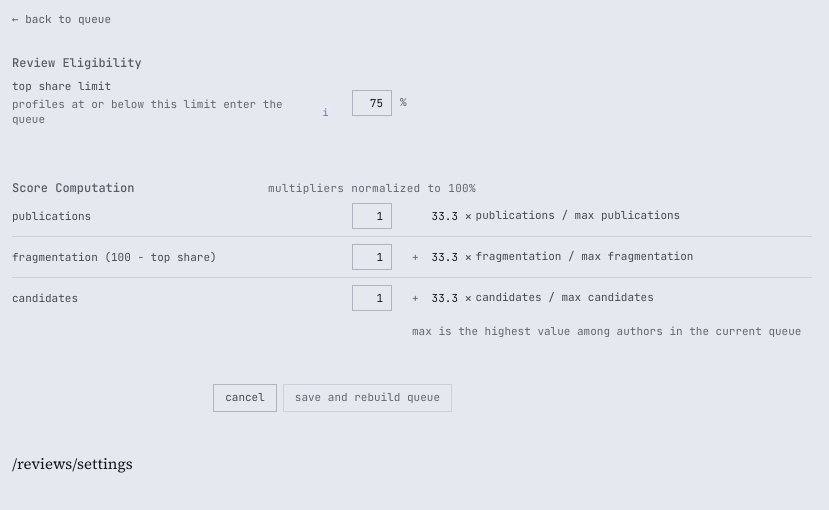
Scenario: preserves score formulas and blanks normalized values for incomplete weights
Expected: the number field labelled "top share limit" is shown, [352,90,392,116]
Expected: the text "Score Computation" is shown, [12,180,134,196]
Clear the number field labelled "publications 33.3 × publications / max publications" at (372, 216), box [352,203,392,229]
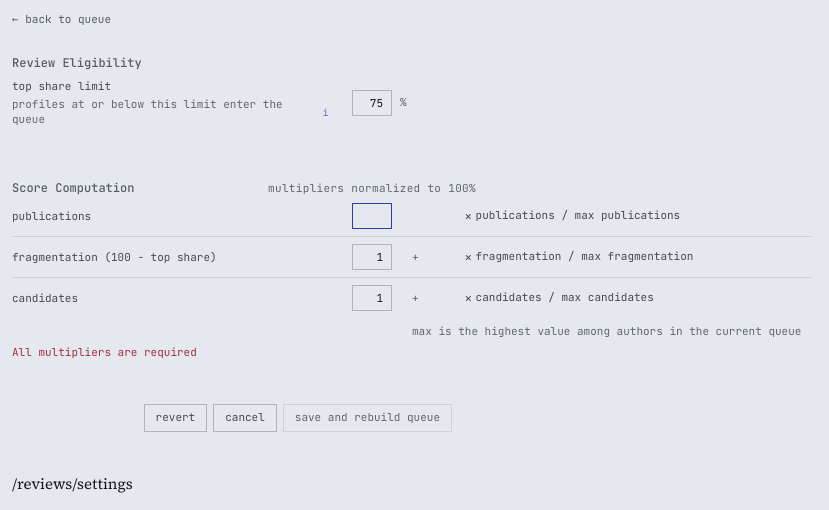
Now the text "33.3" is gone
